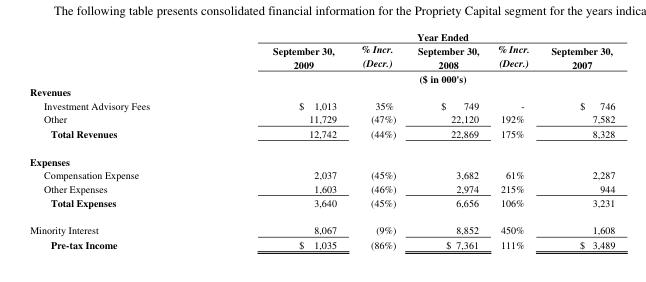table: (29, 29, 614, 251)
table column: (29, 29, 210, 251), (210, 29, 348, 251), (406, 29, 487, 251), (539, 29, 614, 251), (348, 29, 406, 251), (487, 29, 539, 251)
table column header: (29, 29, 614, 85)
table projected row header: (29, 147, 614, 168), (29, 85, 614, 98)
table row: (29, 42, 614, 71), (29, 125, 614, 147), (29, 147, 614, 168), (29, 195, 614, 216), (29, 216, 614, 236), (29, 236, 614, 251), (29, 71, 614, 85), (29, 111, 614, 125), (29, 181, 614, 195), (29, 29, 614, 42), (29, 85, 614, 98), (29, 98, 614, 111), (29, 168, 614, 181)
table spanning cell: (210, 71, 614, 85), (210, 29, 614, 42)
